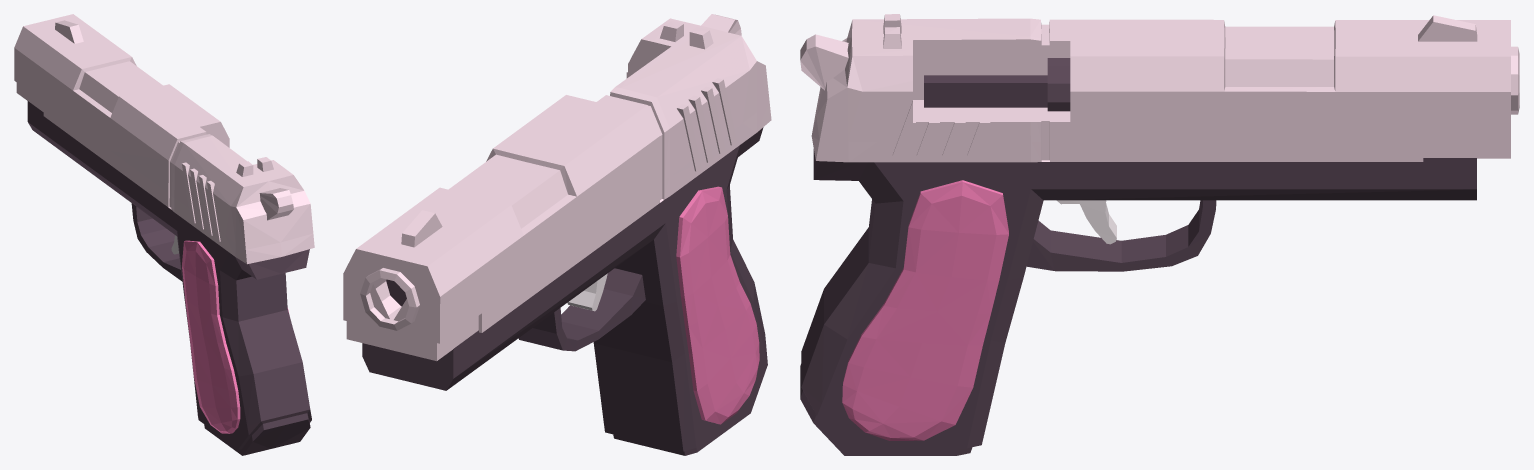
File: Pistol_1.obj
The picture shows the model from 3 angles, left to right: view 1: azimuth 30°, elevation 25°; view 2: azimuth 150°, elevation 25°; view 3: azimuth 270°, elevation 25°; orthographic projection. The views are drawn at different scales.
Parts seen in each view (by area): view 1: Slide, Hardware, Grip, Mag; view 2: Slide, Hardware, Grip, Mag, Body; view 3: Slide, Hardware, Grip, Mag, Body.
Boxes of the visible parts, left/top/right/bottom form: Slide: left=14, top=14, right=314, bottom=264; Hardware: left=27, top=101, right=311, bottom=443; Grip: left=182, top=240, right=289, bottom=433; Mag: left=196, top=402, right=308, bottom=455; Slide: left=343, top=14, right=771, bottom=361; Hardware: left=362, top=127, right=767, bottom=434; Grip: left=676, top=186, right=759, bottom=424; Mag: left=603, top=382, right=761, bottom=455; Body: left=567, top=273, right=607, bottom=311; Slide: left=800, top=14, right=1519, bottom=162; Hardware: left=800, top=58, right=1476, bottom=429; Grip: left=842, top=180, right=1008, bottom=440; Mag: left=817, top=426, right=985, bottom=455; Body: left=1056, top=200, right=1116, bottom=244.
Bounding box in the file's own units: 0.5685 × 2.04 × 3.2.
